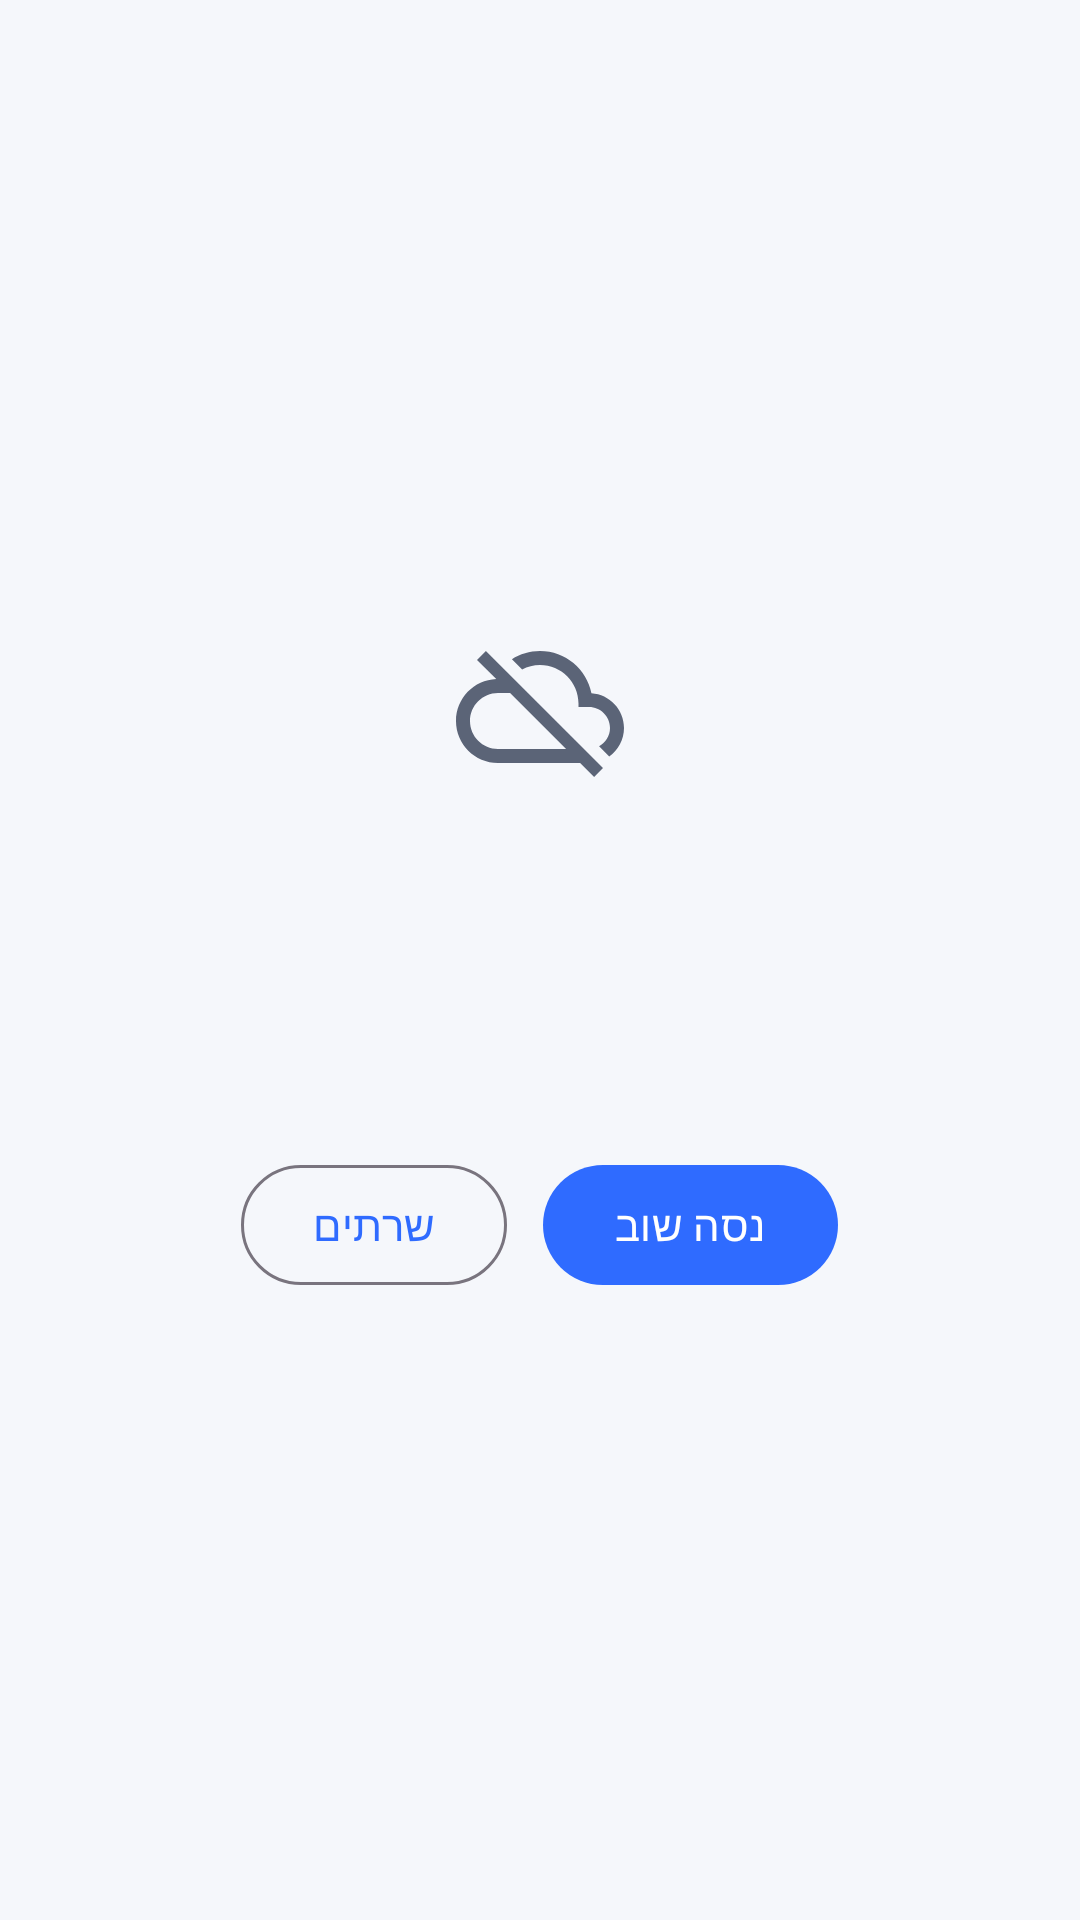

Point at icon controls on the screen. Image size 1080×1920, points as (x=x, y=y).
cloud off: (x=540, y=714)
